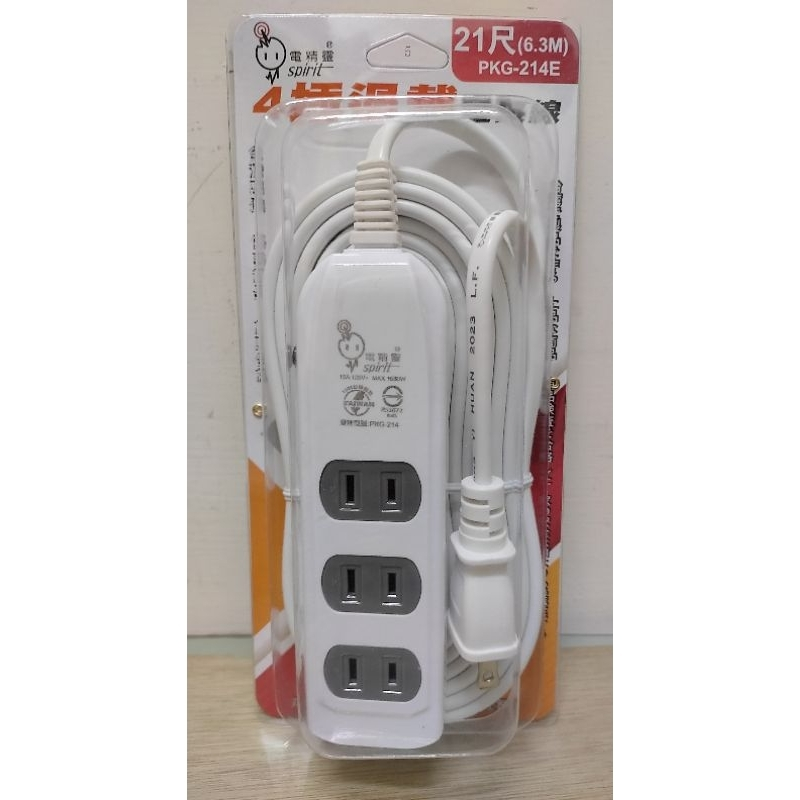socket: (306, 162, 444, 747)
